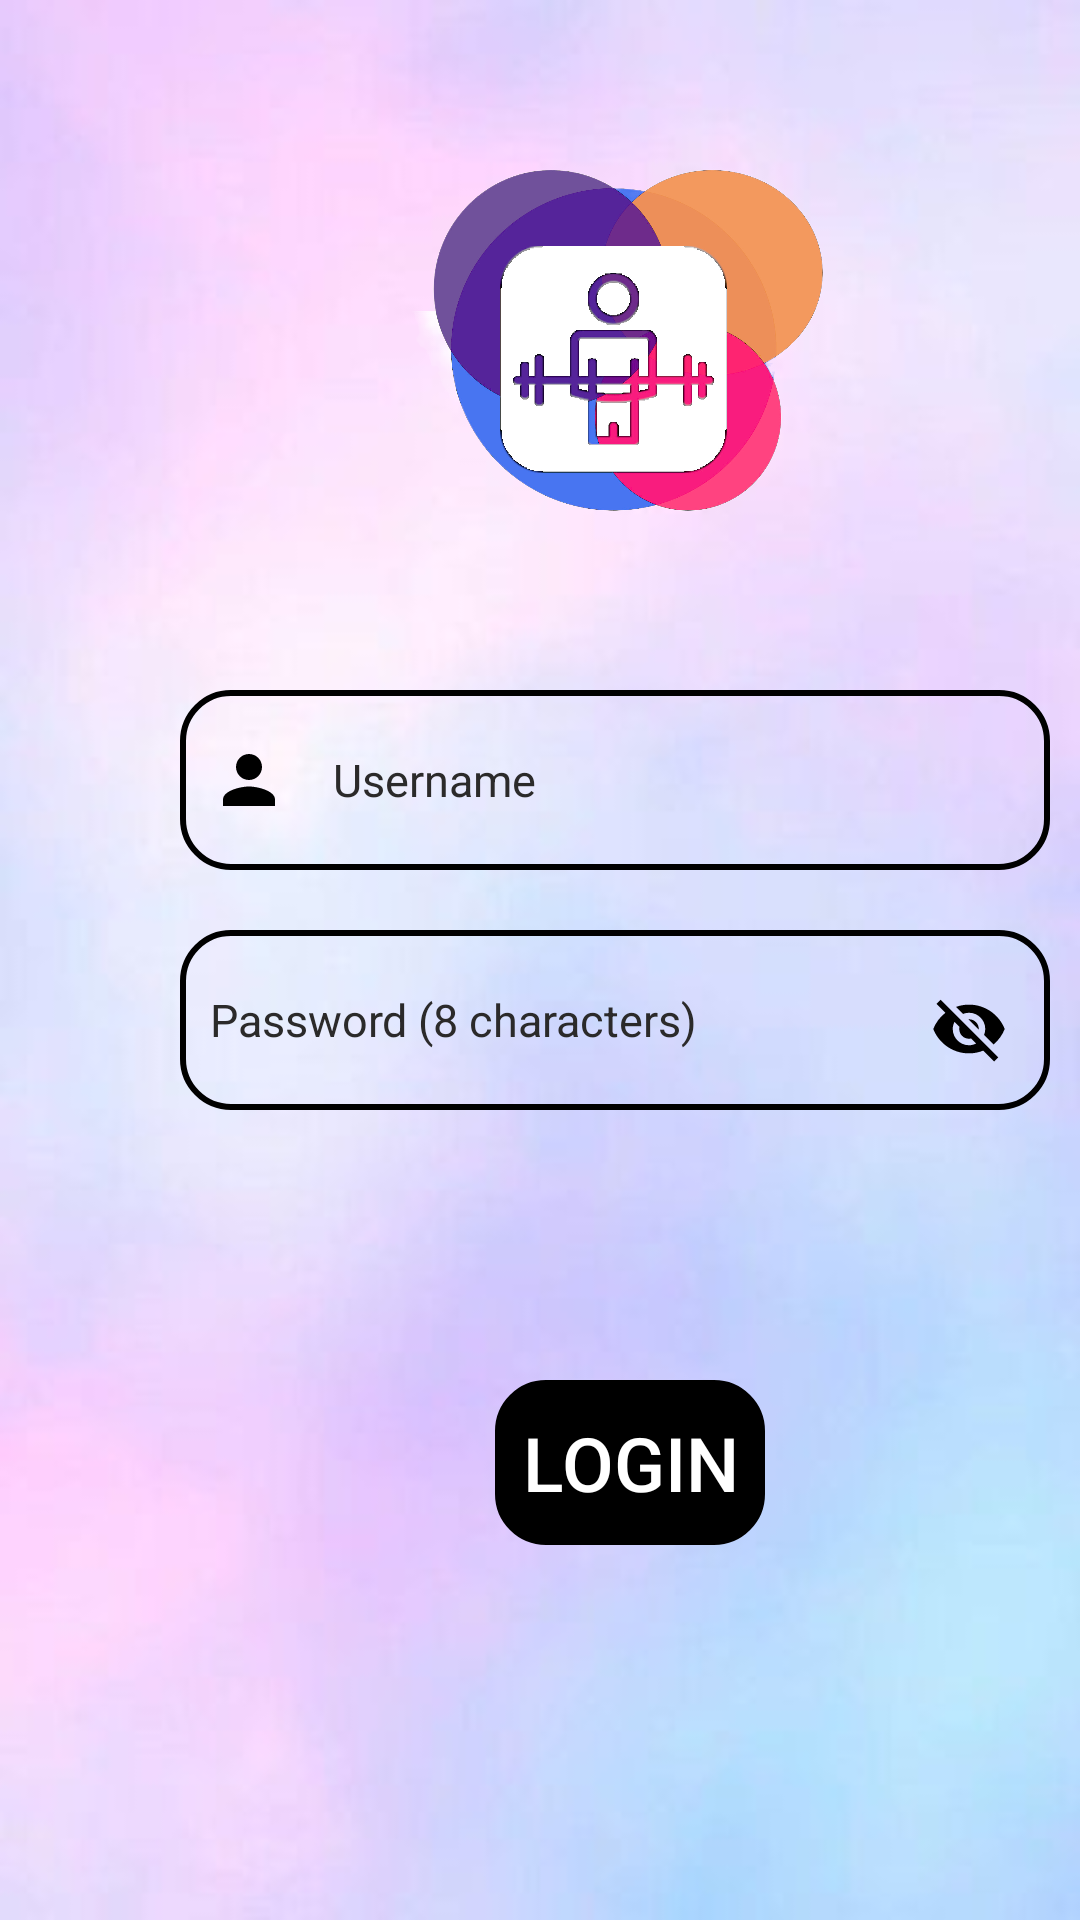

Screen size 1080px×1920px. Icon name, then its center in pixels as (x,y):
visibility off: (969,1031)
